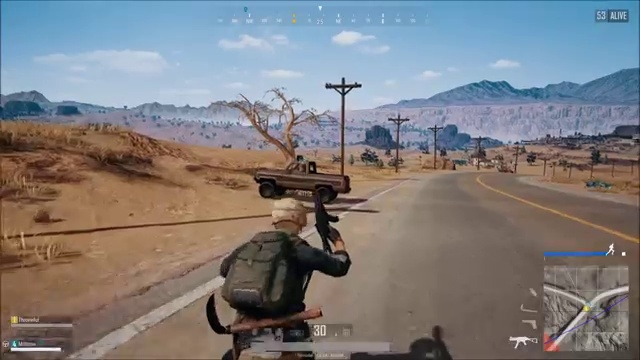Player: (166, 193, 373, 322)
